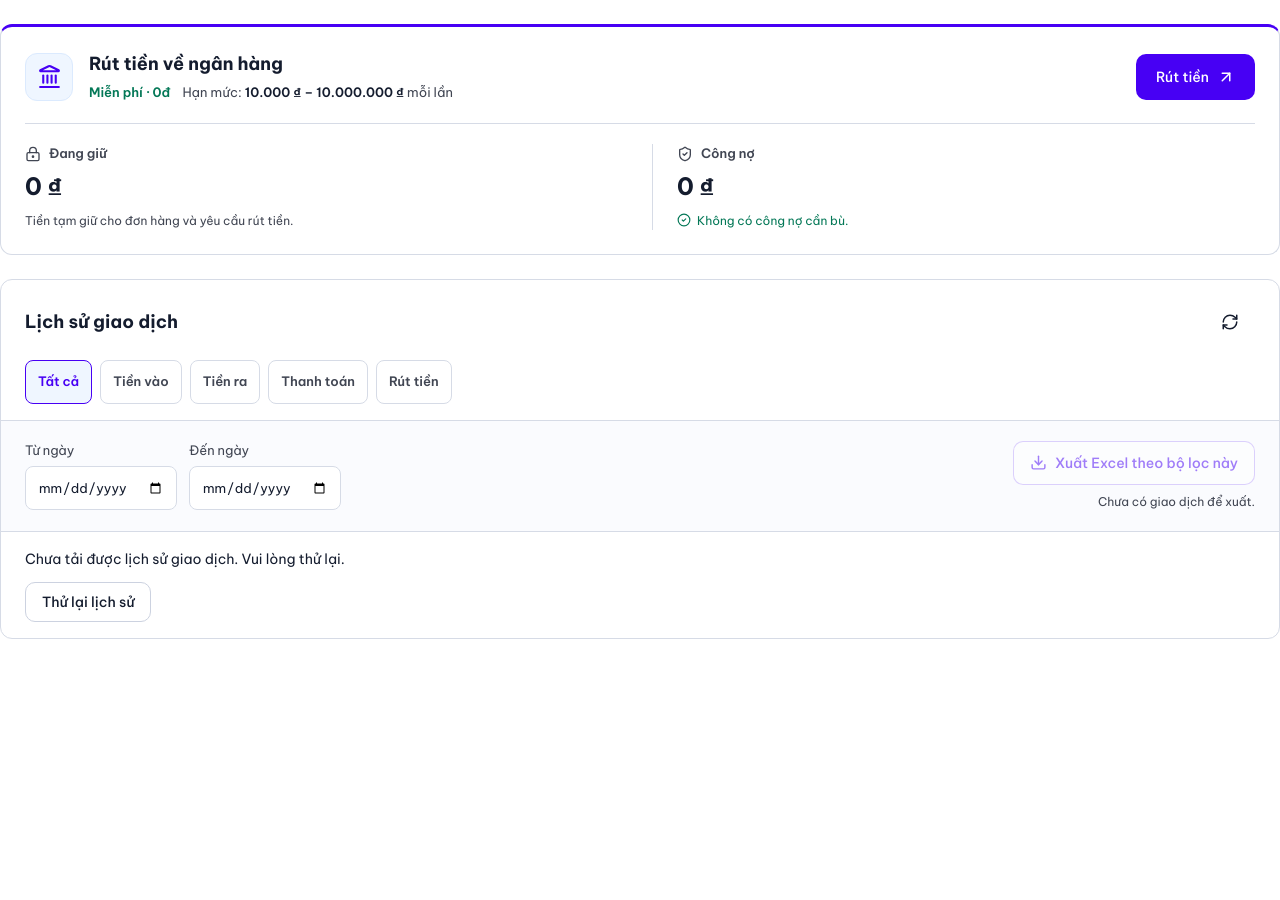
it: mandatory verified withdrawal form › clears the name immediately on destination change and never holds funds on lookup error
Step 1. Click the button "Rút tiền" in the row of "mỗi lần" → (1196, 77), box [1136,54,1255,100]
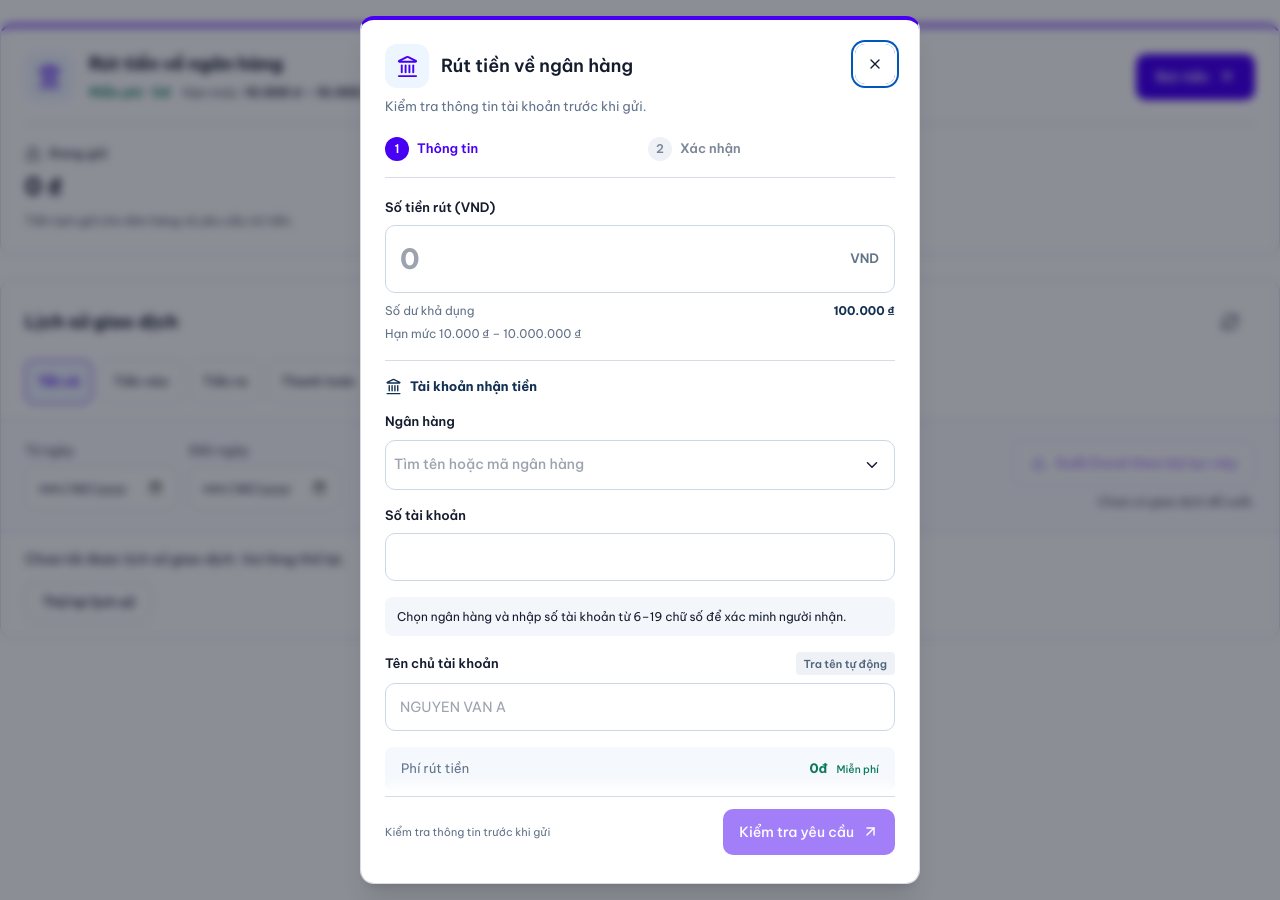
Expected: the dropdown is enabled
Step 2. Focus the dropdown → (618, 465), box [386,441,850,489]
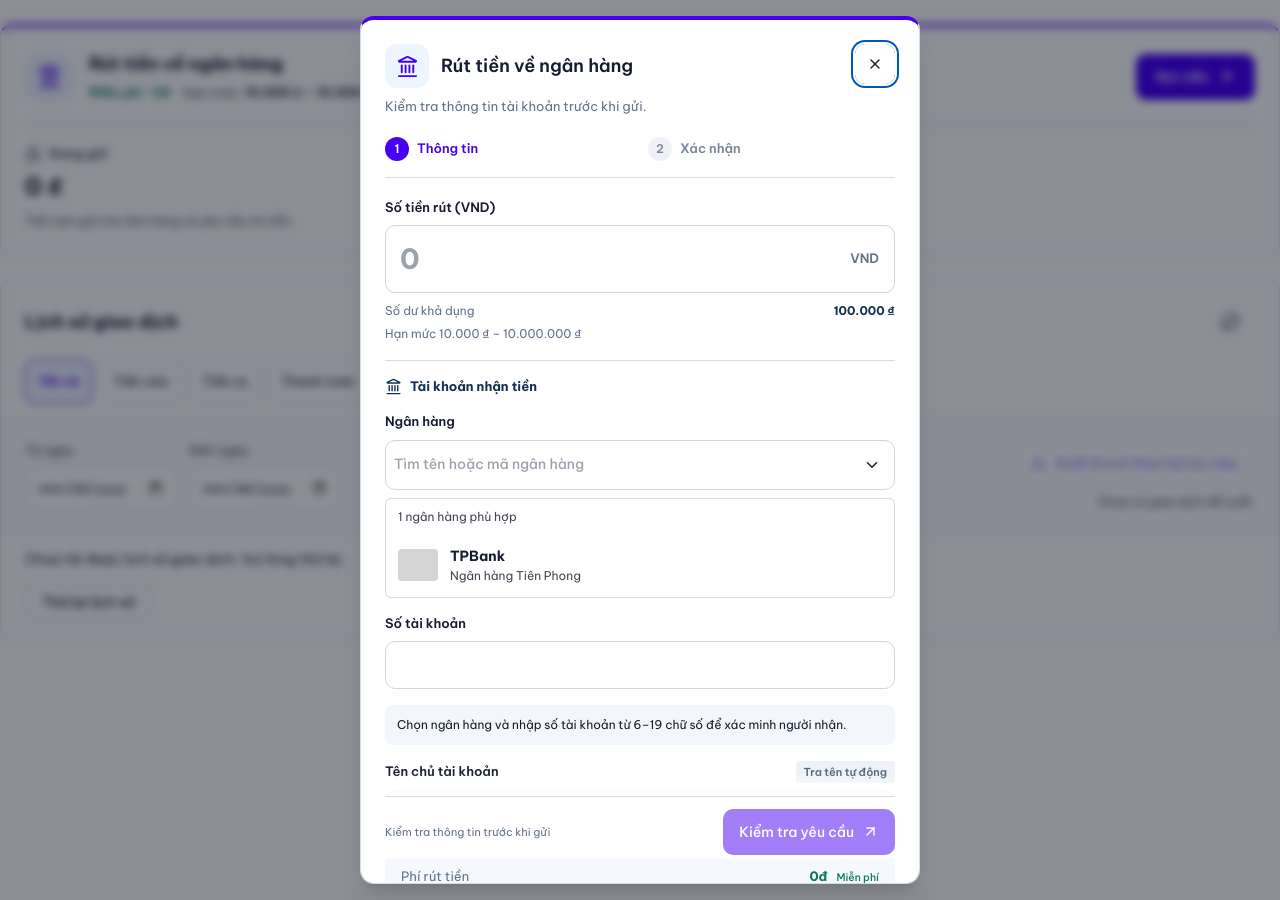
Step 3. Click the option "TPBank Ngân hàng Tiên Phong" → (489, 565), box [398,547,581,583]
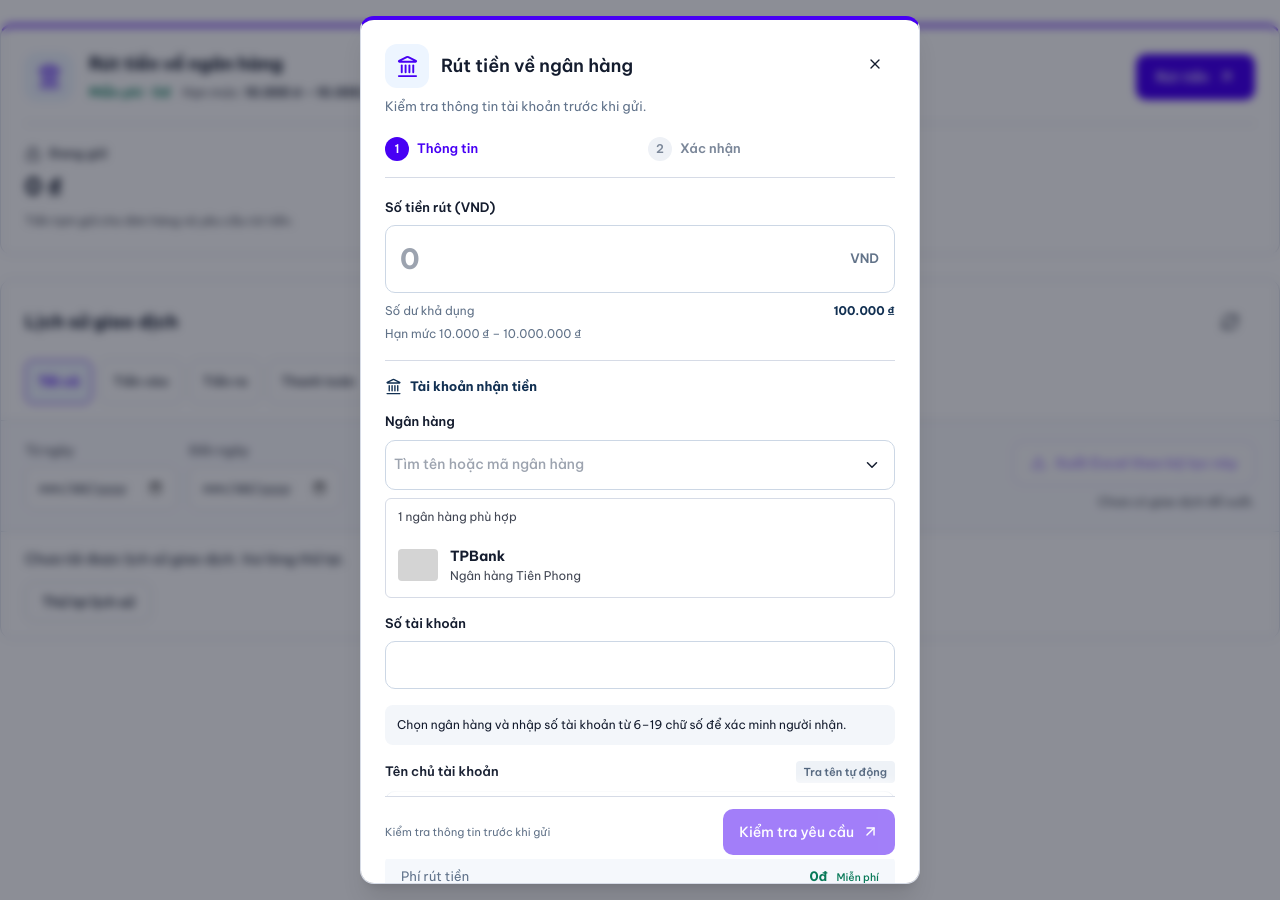
Step 4. Type "10000" into the field labelled "Số tiền rút (VND)" → (640, 259), box [385,225,895,293]
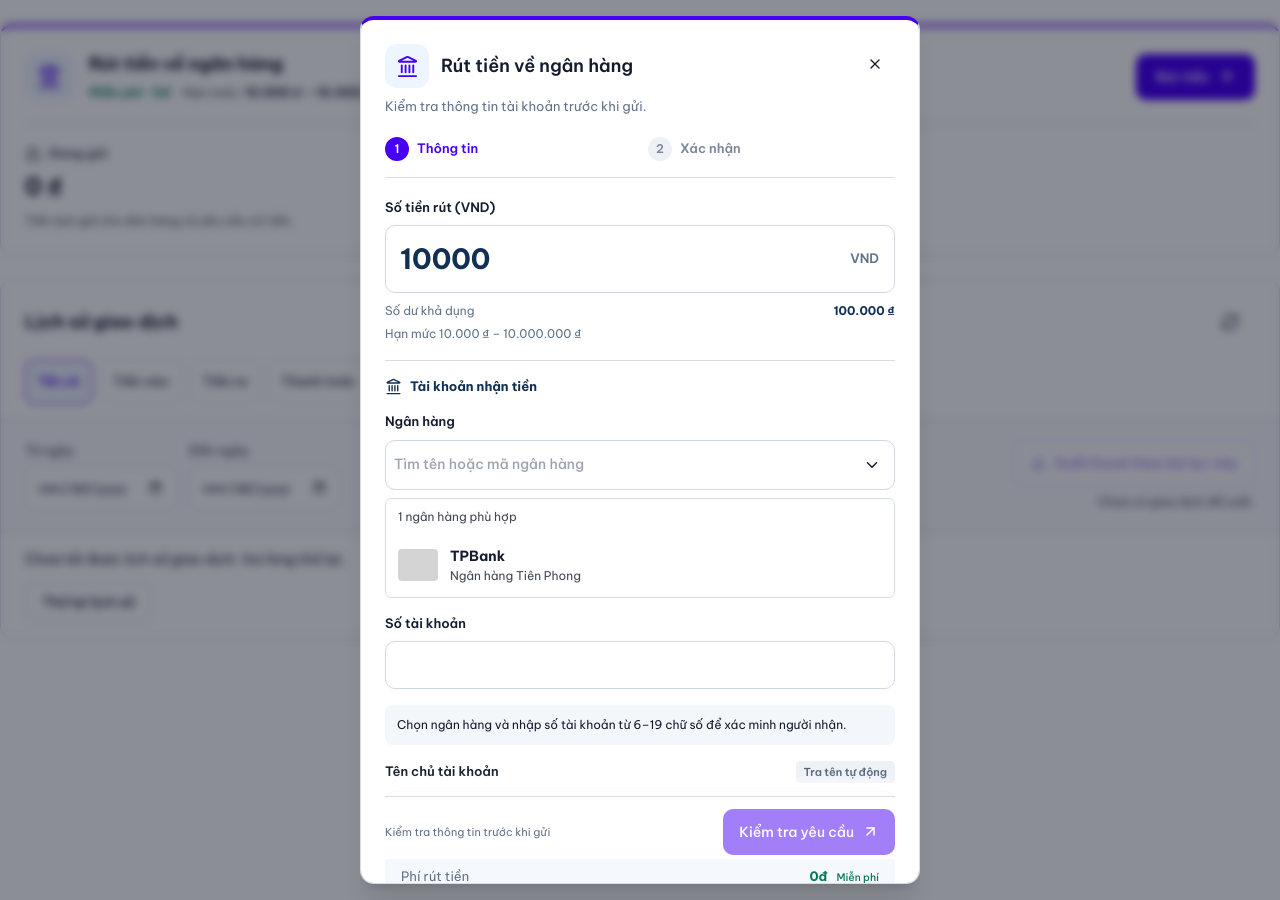
Step 5. Type "00123456" into the field labelled "Số tài khoản" → (640, 665), box [385,641,895,689]
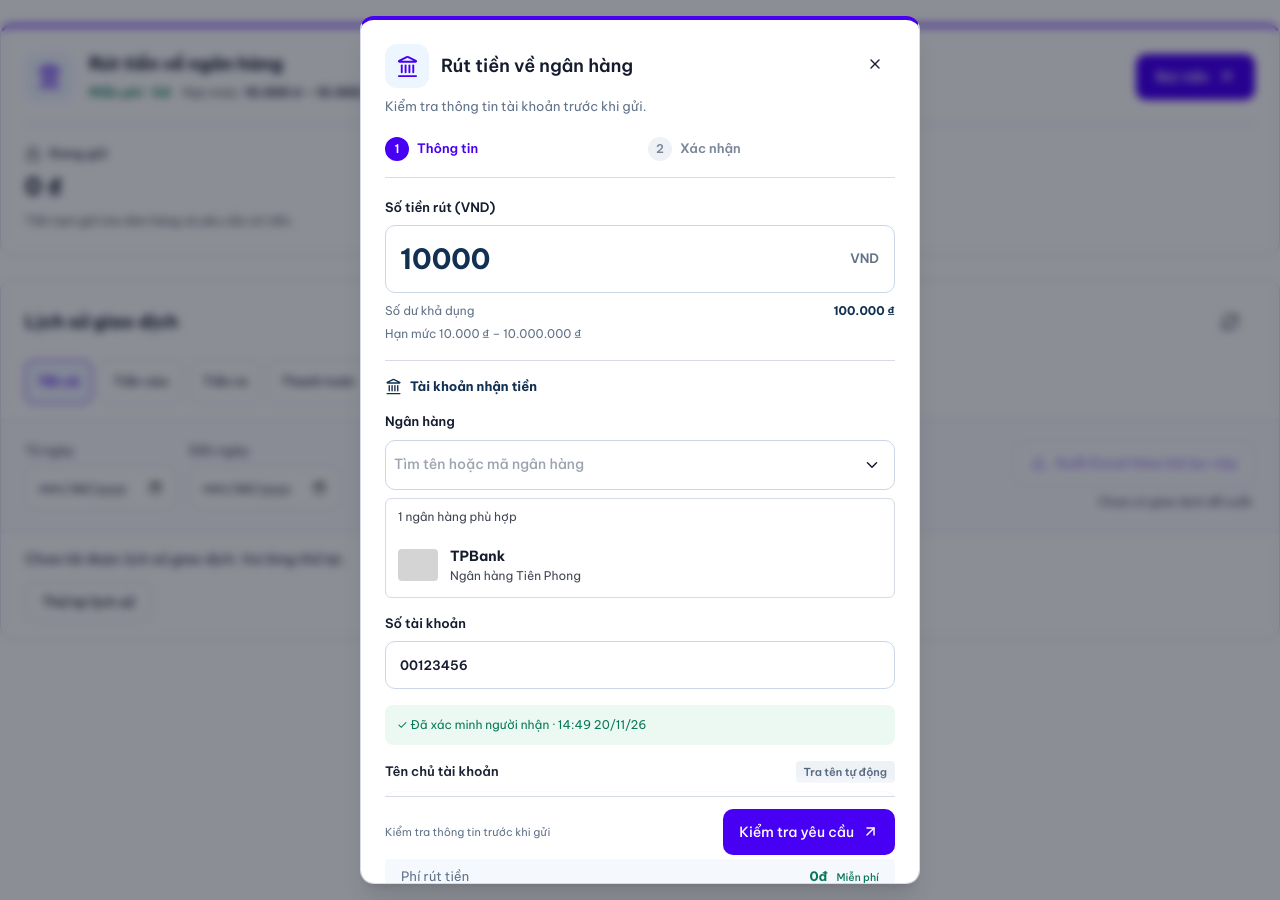
Expected: the field labelled "Tên chủ tài khoản" holds "NGUYEN VAN AN", [385,791,895,839]
Step 6. Replace the text in the field labelled "Số tài khoản" with "00999999" → (640, 665), box [385,641,895,689]
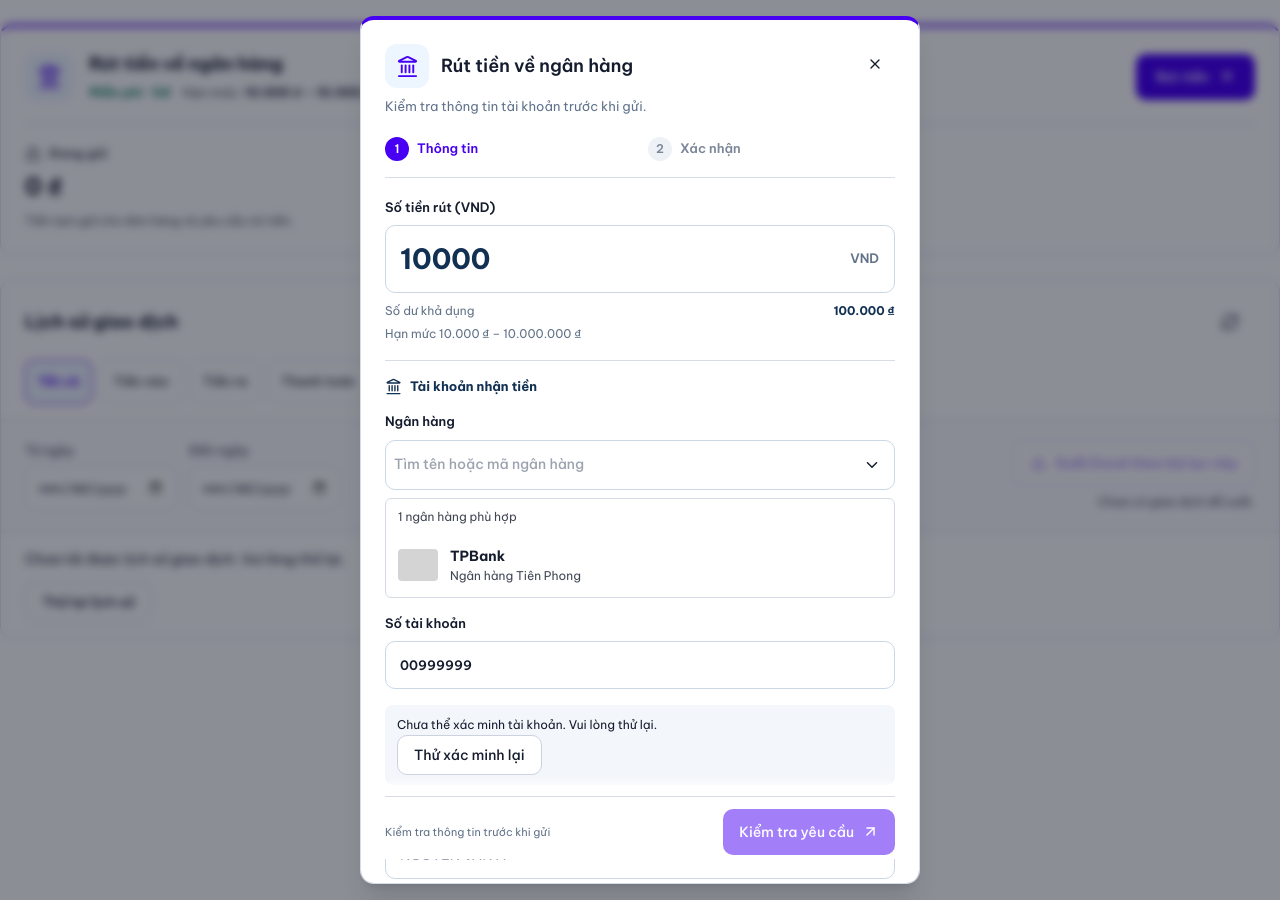
Expected: the field labelled "Tên chủ tài khoản" is empty, [385,831,895,879]
Expected: the button "Kiểm tra yêu cầu" is disabled, [723,809,895,855]
Expected: the button "Thử xác minh lại" is enabled, [397,734,542,774]
